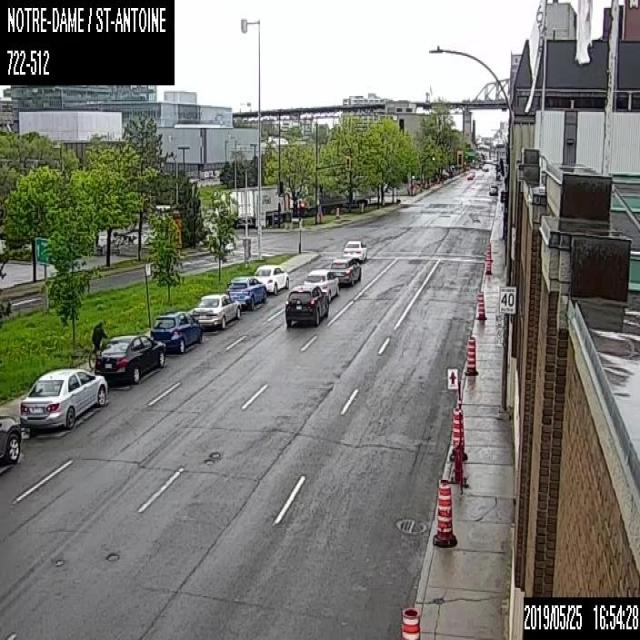construction: (433, 478, 455, 546), (448, 406, 467, 458), (399, 606, 419, 638), (464, 336, 476, 375), (476, 292, 486, 319), (484, 240, 491, 275)
cyclist: (88, 319, 108, 368)
vehicle: (20, 367, 106, 431), (95, 333, 165, 383), (149, 310, 202, 352), (284, 284, 329, 328), (193, 293, 240, 329), (226, 274, 265, 308), (0, 413, 24, 467), (303, 268, 339, 301), (253, 263, 288, 294), (330, 257, 360, 284), (342, 238, 367, 262), (488, 184, 498, 195), (468, 169, 475, 176), (466, 174, 473, 179)
